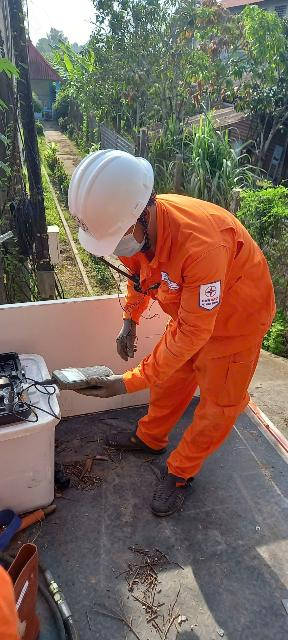gloves: (66, 363, 138, 402), (114, 317, 148, 357)
helmet: (64, 141, 156, 260)
shoes: (101, 417, 174, 457), (151, 460, 196, 520)
